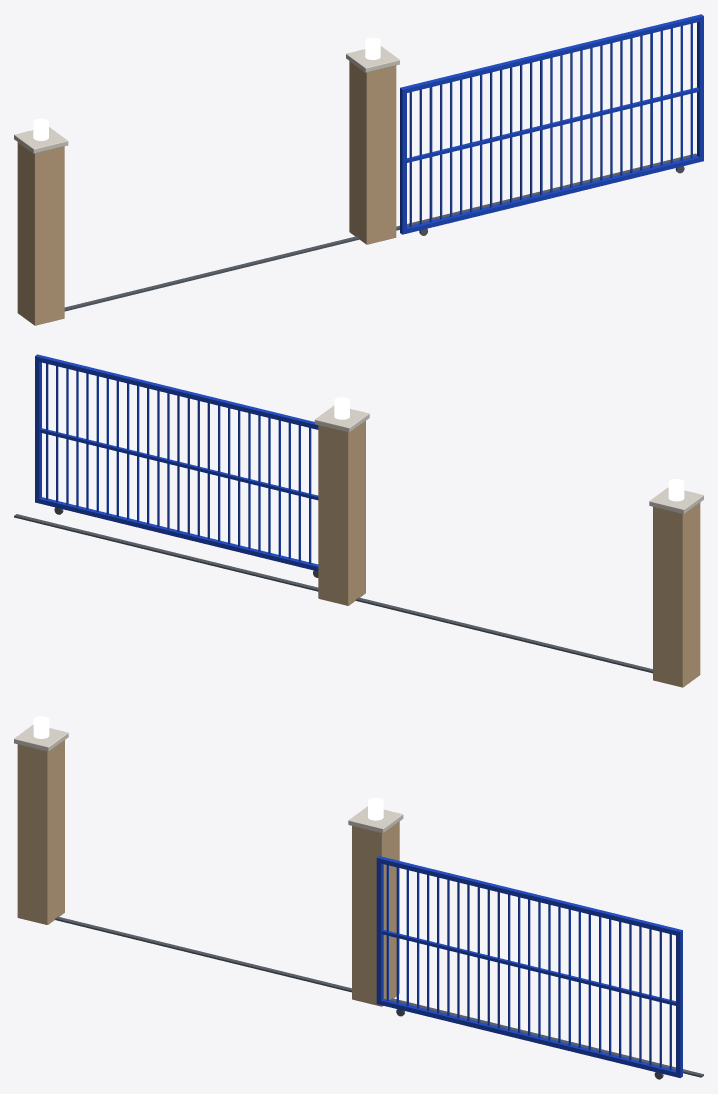
File: gate.glb
3 renders of one model, top to bottom at view 1: azimuth 30°, elevation 25°; view 2: azimuth 150°, elevation 25°; view 3: azimuth 330°, elevation 25°, orthographic.
Visible parts, largest first — view 1: gate; view 2: gate; view 3: gate.
Boxes of the visible parts, x1,y1,x2,y2 form: gate: (14,14,703,325); gate: (14,354,703,687); gate: (14,716,703,1079).
Bounding box in the file's own units: 8.93 × 2.46 × 0.56.
